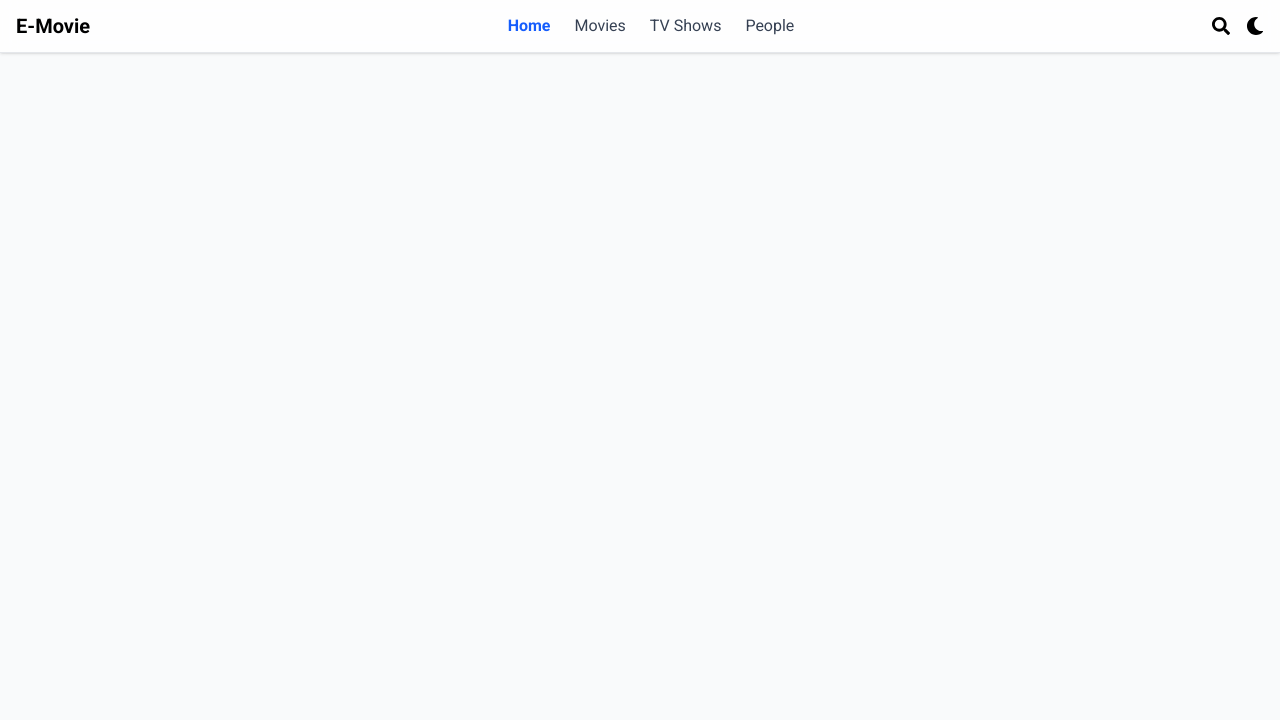
Test: test the search icon if it would be drop down when clicked
The width and height of the screenshot is (1280, 720).
Click the icon with test id "search-icon" at (1221, 26), box [1212,17,1230,35]
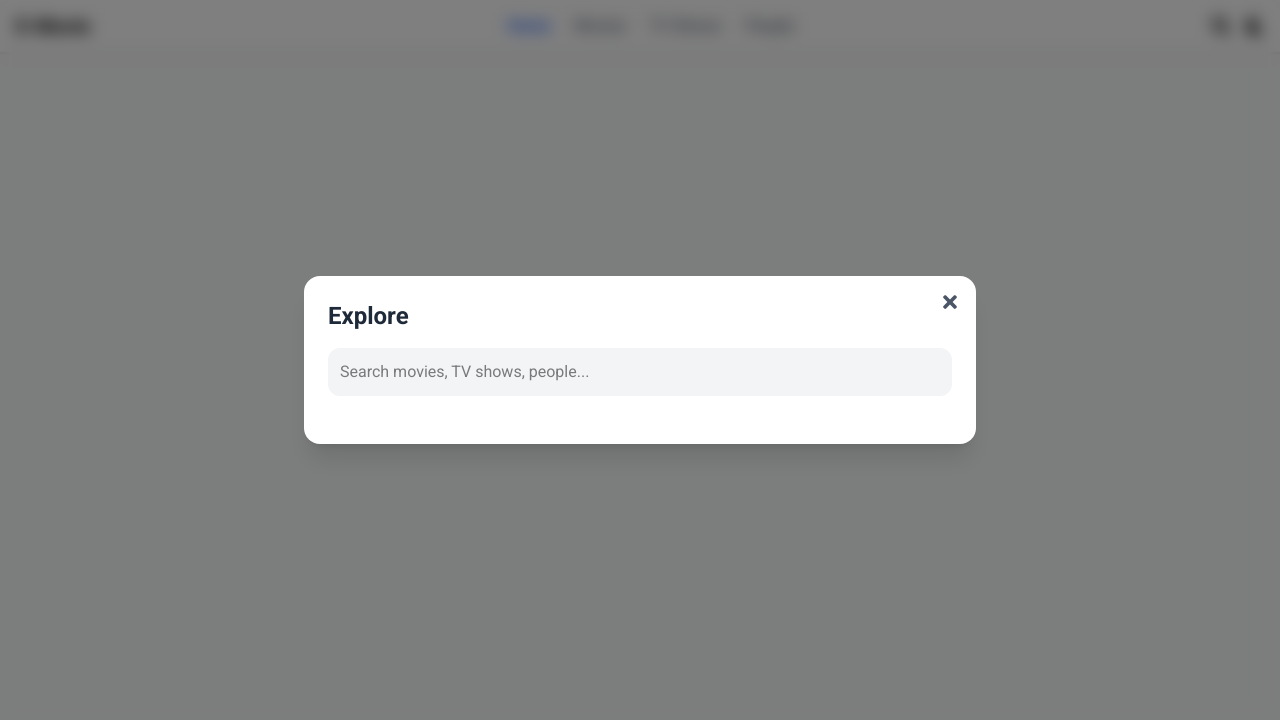
Result: the heading "Explore" is shown at [328,302,409,330]
